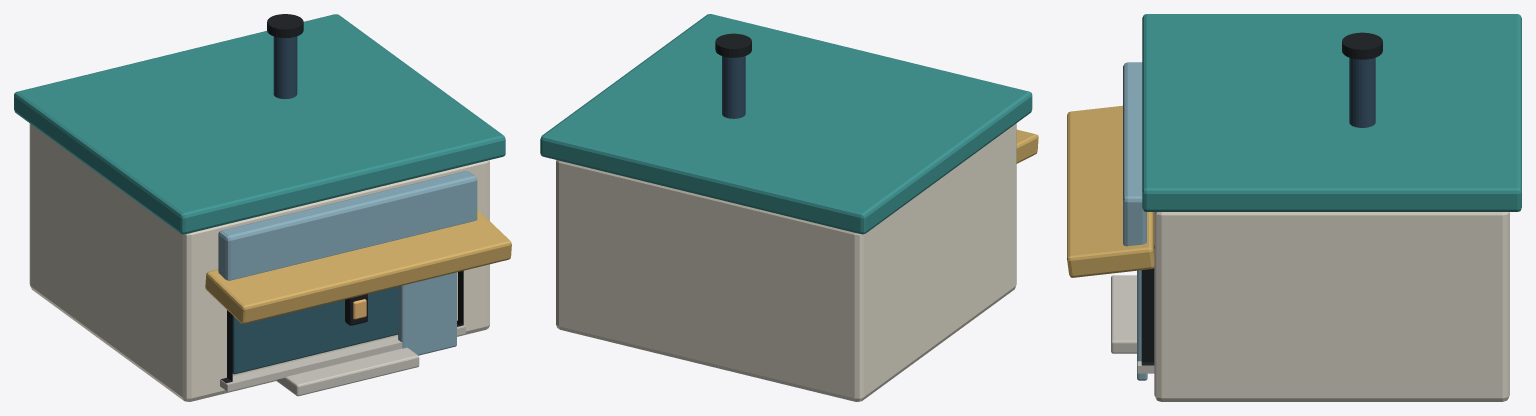
File: COM_KIOSK_1x1_006.glb
3 renders of one model, left to right at view 1: azimuth 30°, elevation 25°; view 2: azimuth 150°, elevation 25°; view 3: azimuth 270°, elevation 25°, orthographic. The views are drawn at different scales.
Visible parts, largest first — view 1: COM_KIOSK_1x1_006_Visual; view 2: COM_KIOSK_1x1_006_Visual; view 3: COM_KIOSK_1x1_006_Visual.
Part boxes in pixels (<box>): COM_KIOSK_1x1_006_Visual: <box>14,14,511,401</box>; COM_KIOSK_1x1_006_Visual: <box>540,14,1038,401</box>; COM_KIOSK_1x1_006_Visual: <box>1067,14,1521,401</box>.
Size of what is drawn, in the model's own units: 1.75 by 1.38 by 1.89.
